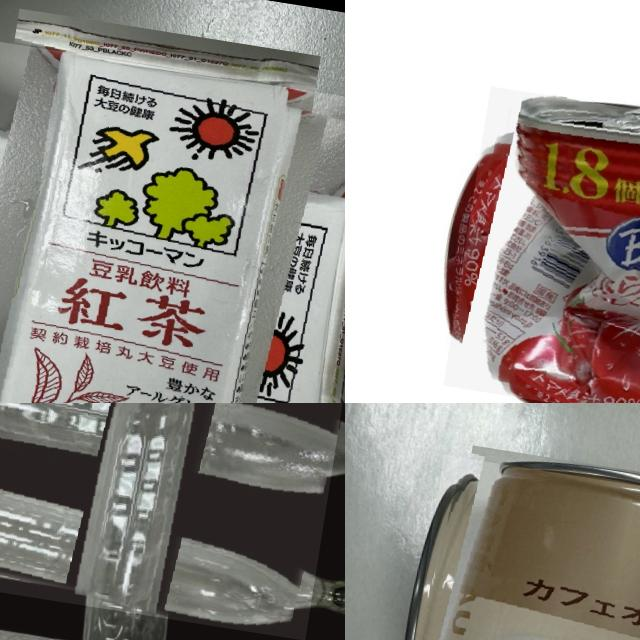Aluminium Foil: (0, 36, 345, 403)
Can: (442, 86, 640, 403), (391, 455, 640, 640)
Transparent Plastic Bottle: (0, 403, 345, 640), (0, 483, 345, 640)
